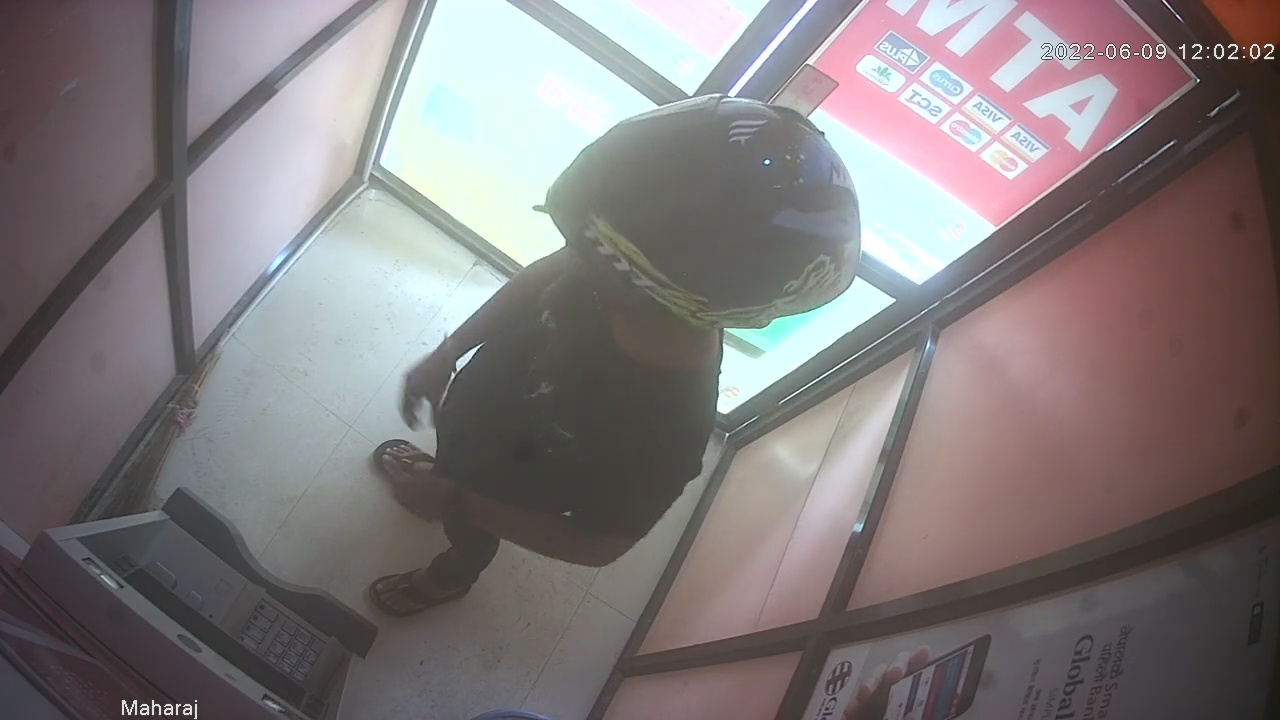helmet: (544, 91, 863, 333)
person: (367, 92, 862, 619)
